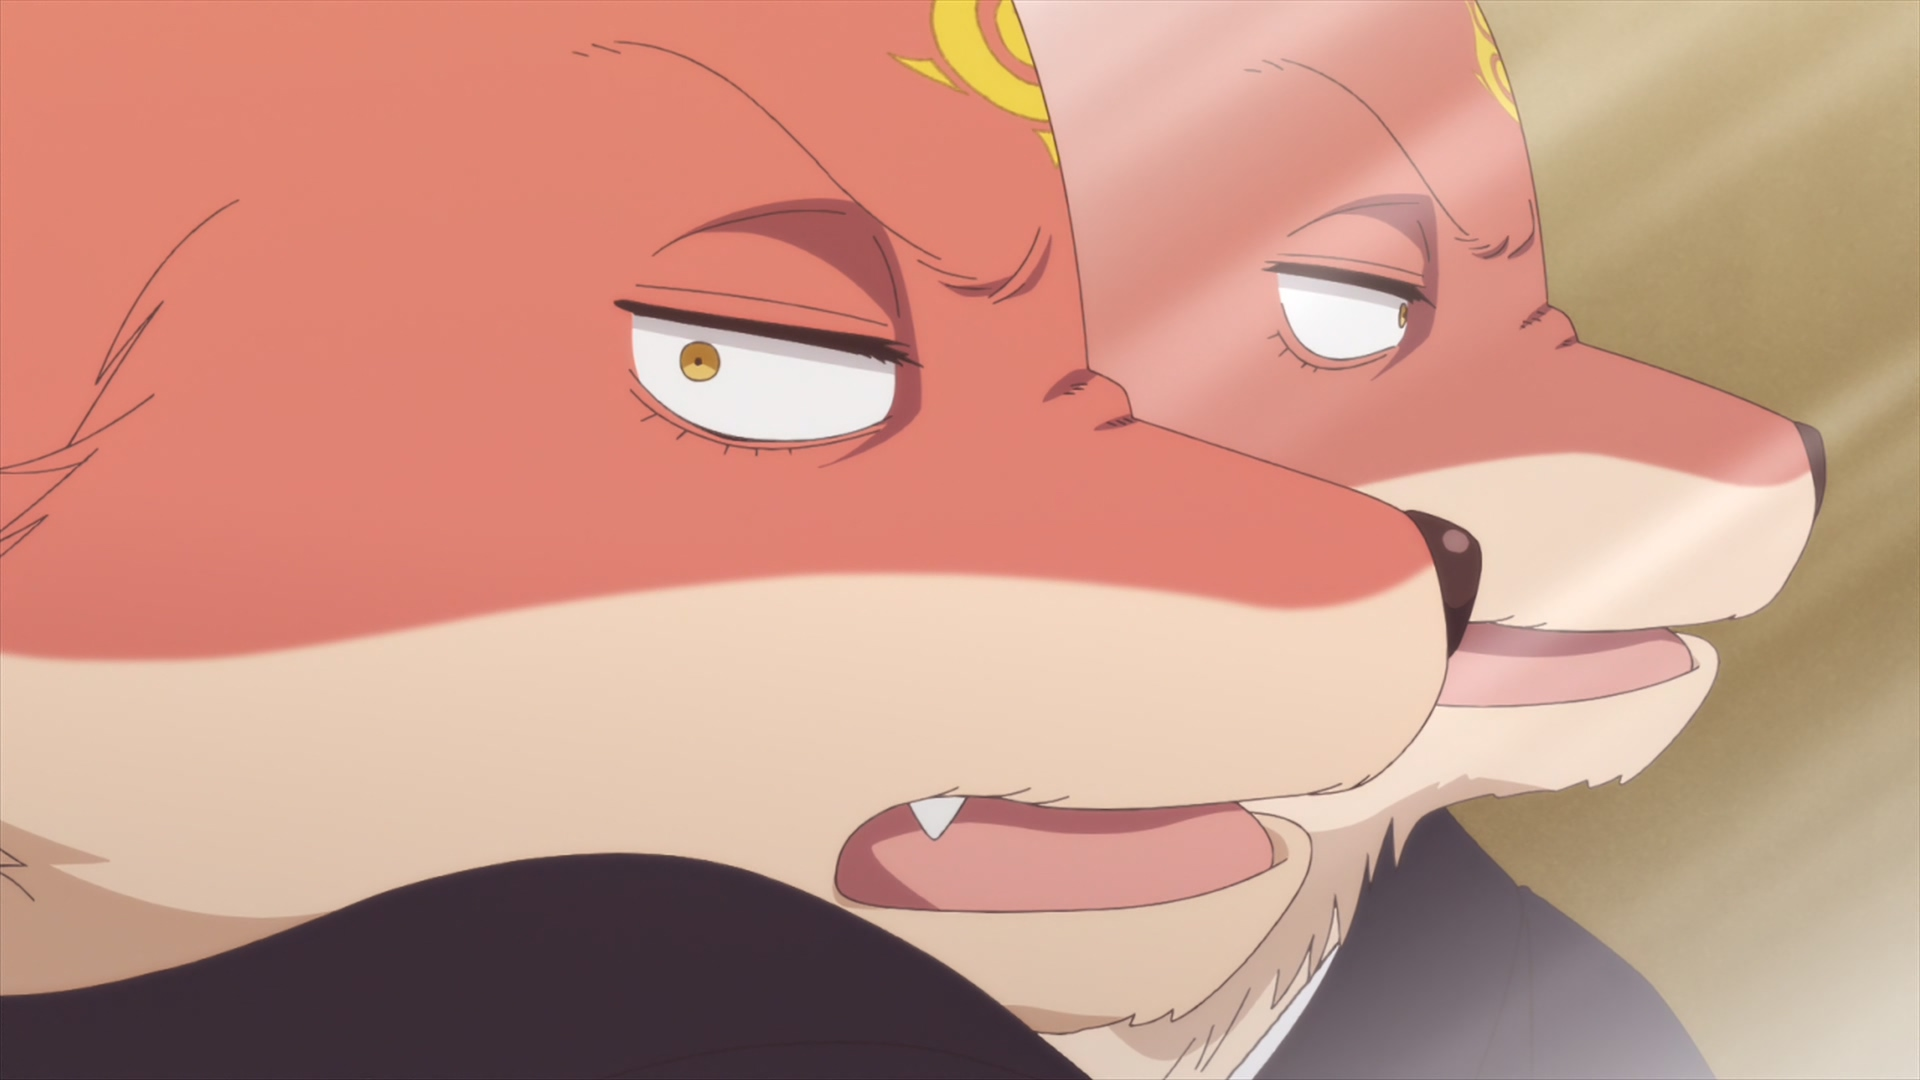椿: (1, 1, 1482, 1080), (1013, 1, 1826, 1080)
